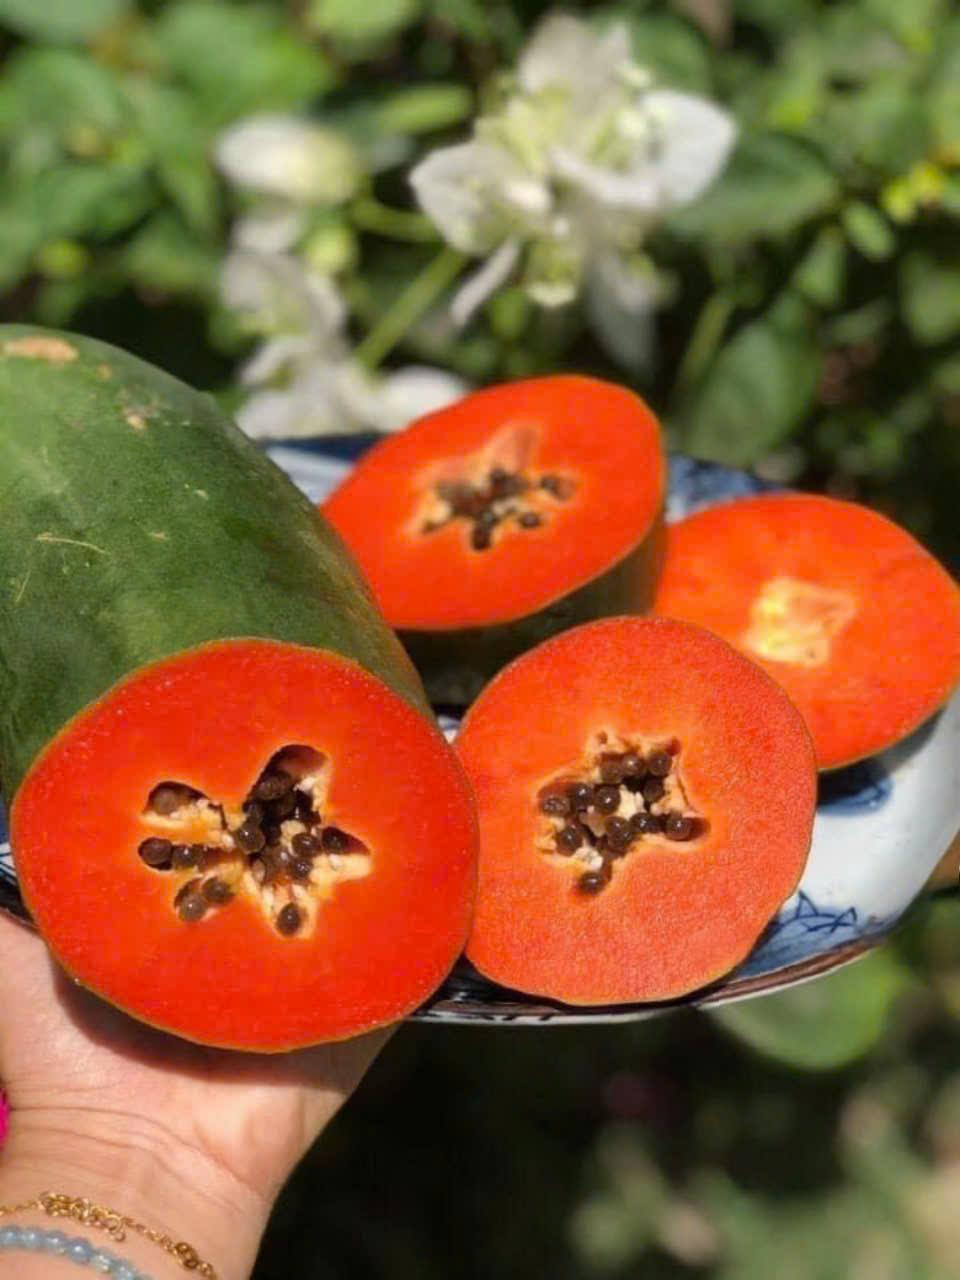papaya: (12, 641, 478, 1052), (460, 596, 828, 998), (640, 478, 960, 772), (340, 371, 654, 618)
